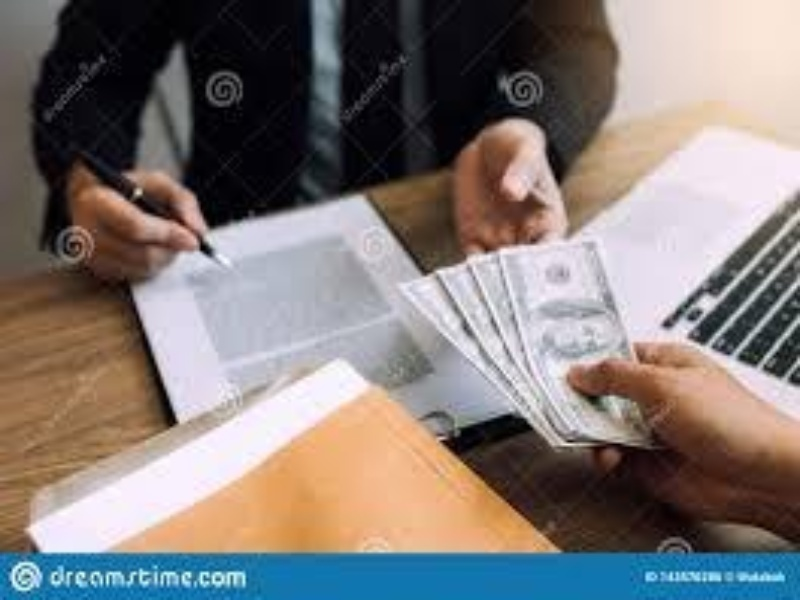cash: (400, 237, 665, 449)
person: (26, 1, 621, 277)
